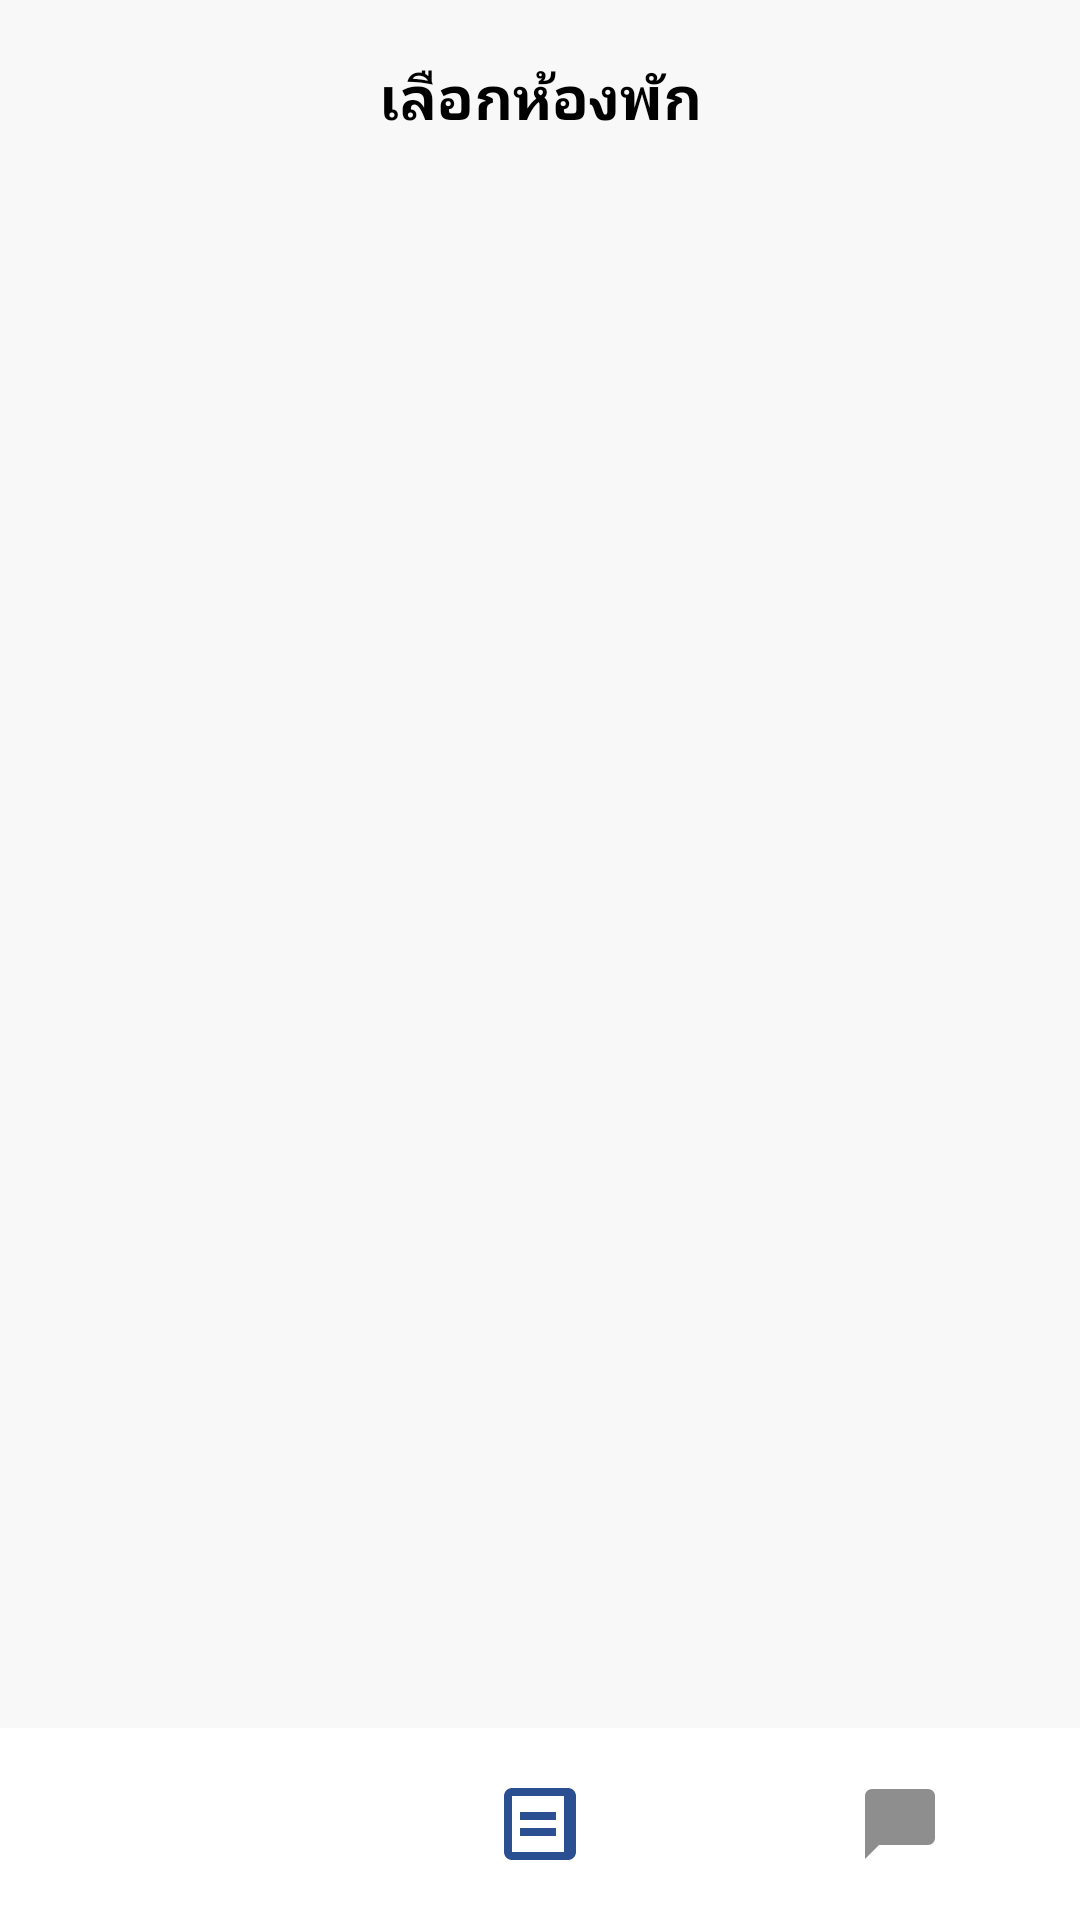

Screen size 1080x1920. Icon name, then its center in pixels as point (x, y):
chat: point (900, 1824)
list: point (540, 1824)
